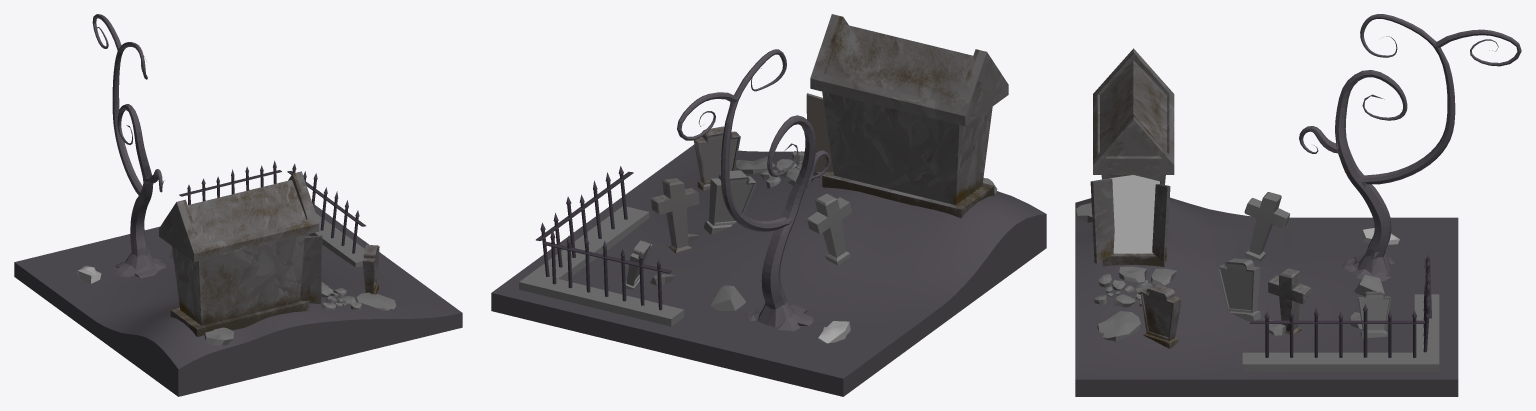
Rendered from Graveyard Export FBX.fbx.
3 views of the same model, side by side, from view 1: azimuth 30°, elevation 25°; view 2: azimuth 150°, elevation 25°; view 3: azimuth 270°, elevation 25° (orthographic). The views are drawn at different scales.
Parts seen in each view (by area): view 1: Ground, MainCrypt, Tree, DoorLeft, FenceBase, Tombstone2, Rock3, Rock2; view 2: Ground, MainCrypt, Tree, FenceBase, Cross1, Cross, Tombstone1, Tombstone2, DoorRight, Rock, Tombstone3, Rock1 (+2 smaller); view 3: Ground, MainCrypt, Tree, FenceBase, CryptLight, Tombstone1, Tombstone2, DoorLeft, Cross, Cross1, DoorRight, Tombstone3 (+4 smaller).
Part boxes in pixels (x1,y1,x2,y2): Ground: (14,204,462,396); MainCrypt: (159,171,319,336); Tree: (92,14,165,278); DoorLeft: (300,235,322,304); FenceBase: (308,213,364,267); Tombstone2: (362,244,379,294); Rock3: (356,292,396,310); Rock2: (204,327,233,345); Ground: (491,144,1046,396); MainCrypt: (810,14,1008,218); Tree: (677,49,830,331); FenceBase: (519,206,684,326); Cross1: (651,178,699,253); Cross: (807,193,851,265); Tombstone1: (704,170,756,234); Tombstone2: (693,126,740,190); DoorRight: (806,93,833,172); Rock: (711,285,745,310); Tombstone3: (625,240,652,289); Rock1: (818,321,850,343); Ground: (1075,197,1458,396); MainCrypt: (1093,48,1174,266); Tree: (1299,14,1521,281); FenceBase: (1242,294,1439,371); CryptLight: (1110,175,1159,253); Tombstone1: (1218,258,1260,321); Tombstone2: (1140,284,1180,348); DoorLeft: (1090,178,1114,263); Cross: (1244,192,1289,262); Cross1: (1268,268,1311,335); DoorRight: (1152,184,1170,262); Tombstone3: (1357,291,1391,338).
Size of the model in its own units: 6 by 4.73 by 6.99.
8 materials, 1 textured.
